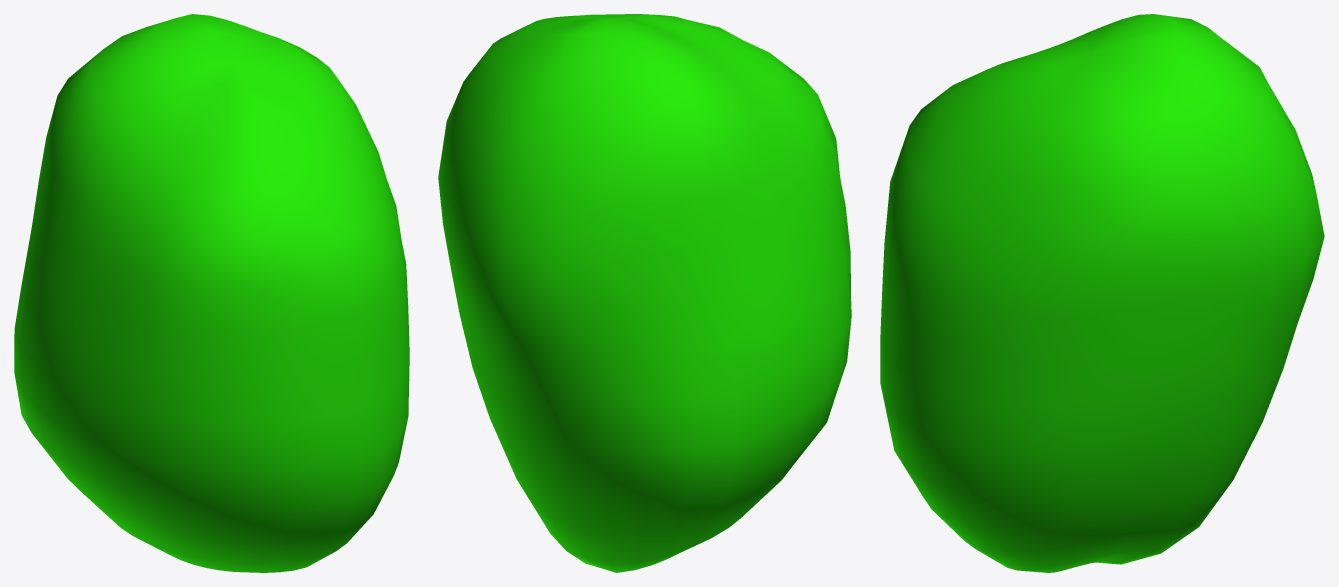
File: DeathParticlesMesh.fbx
3 views of the same model, side by side, from view 1: azimuth 30°, elevation 25°; view 2: azimuth 150°, elevation 25°; view 3: azimuth 270°, elevation 25° (orthographic). The views are drawn at different scales.
Parts seen in each view (by area): view 1: deathParticlesMesh; view 2: deathParticlesMesh; view 3: deathParticlesMesh.
Boxes of the visible parts, x1,y1,x2,y2 form: deathParticlesMesh: [14, 14, 409, 572]; deathParticlesMesh: [438, 14, 851, 572]; deathParticlesMesh: [880, 14, 1324, 572].
Size of the model in its own units: 210 by 316 by 241.
